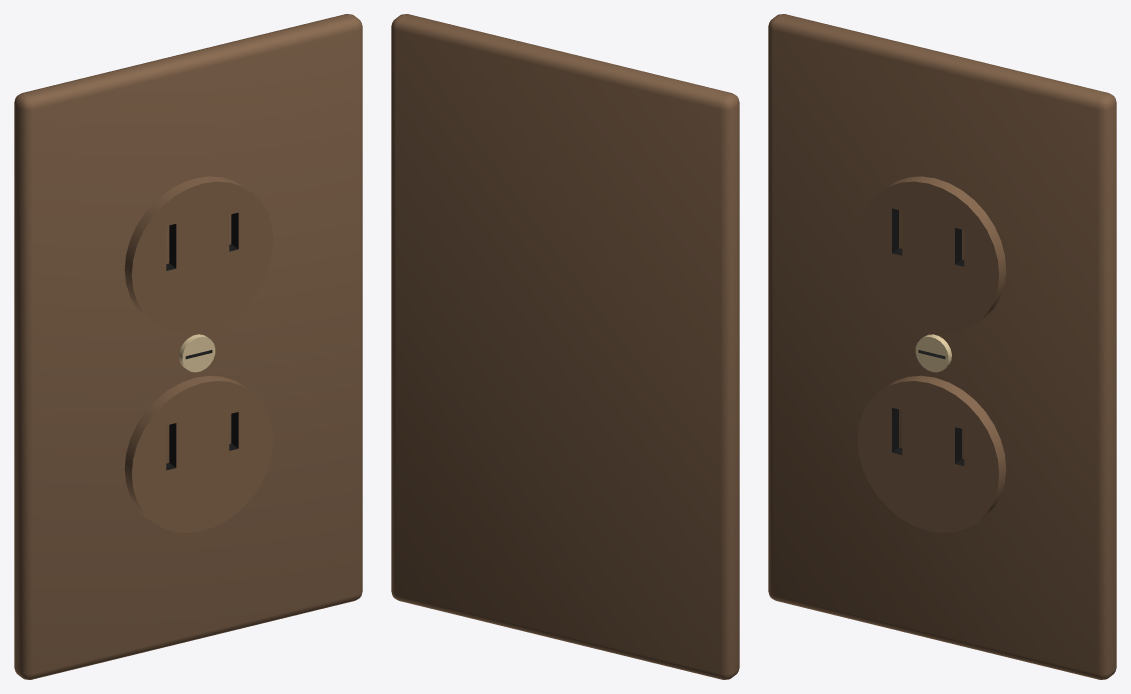
File: outlet_twoprong.glb
3 renders of one model, left to right at view 1: azimuth 30°, elevation 25°; view 2: azimuth 150°, elevation 25°; view 3: azimuth 330°, elevation 25°, orthographic.
Visible parts, largest first — view 1: Outlet; view 2: Outlet; view 3: Outlet.
Boxes of the visible parts, x1=… form: Outlet: x1=14, y1=14, x2=362, y2=679; Outlet: x1=391, y1=14, x2=739, y2=679; Outlet: x1=768, y1=14, x2=1116, y2=679.
Bounding box in the file's own units: 0.07 × 0.114 × 0.0075.
